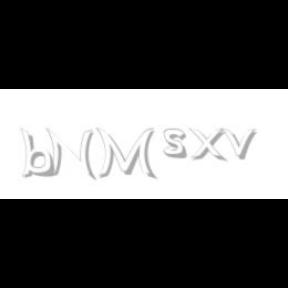M: (96, 128, 154, 180)
N: (46, 128, 94, 180)
b: (20, 128, 58, 178)
s: (163, 128, 191, 160)
v: (220, 128, 260, 160)
x: (188, 128, 230, 162)
